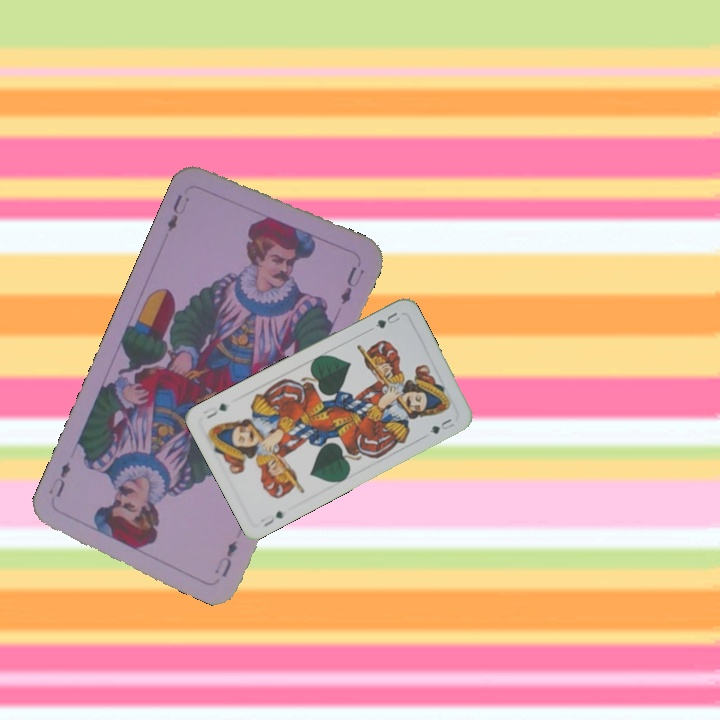EU: (162, 190, 190, 234), (214, 536, 240, 580)
GU: (366, 308, 403, 333), (257, 507, 287, 529)
